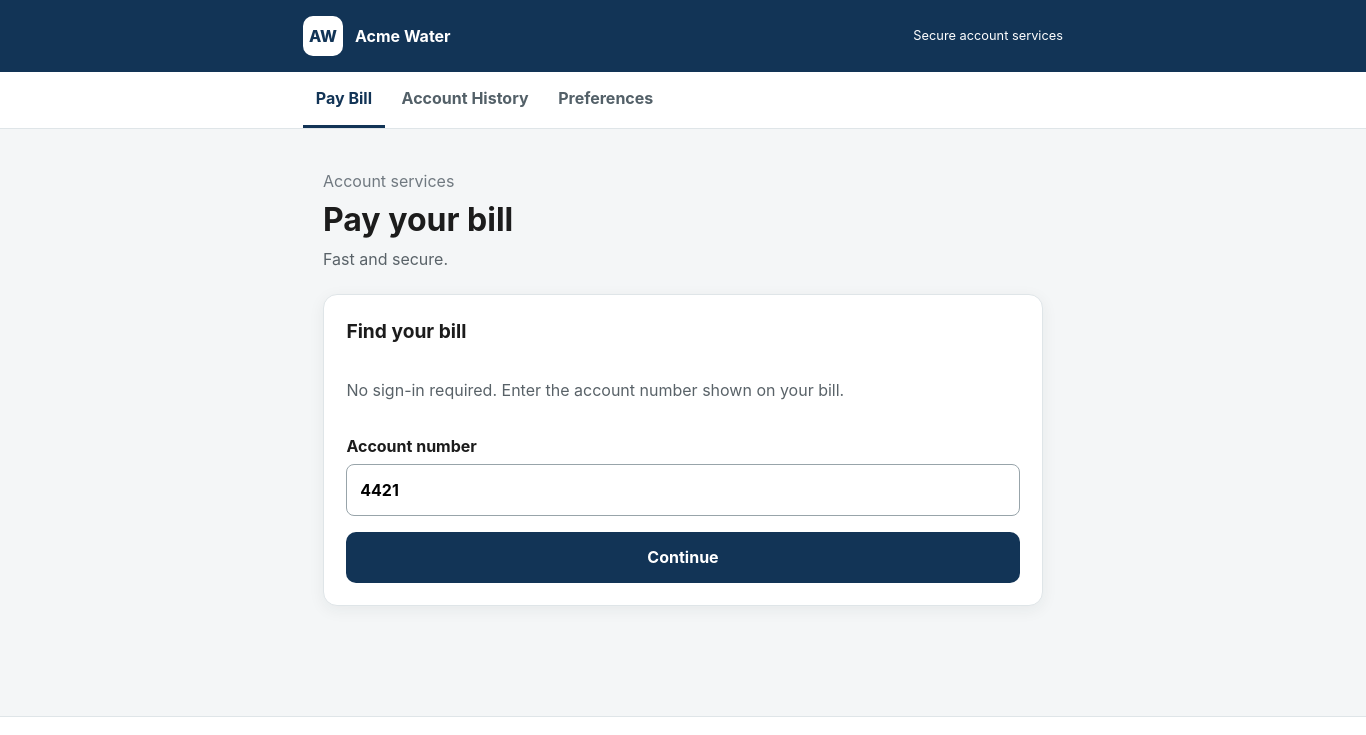
Test case: QA fixes › labels paid invoices as Paid in account history
Click the button with test id "lookup-submit" at (683, 557), box x1=346 y1=532 x2=1020 y2=583
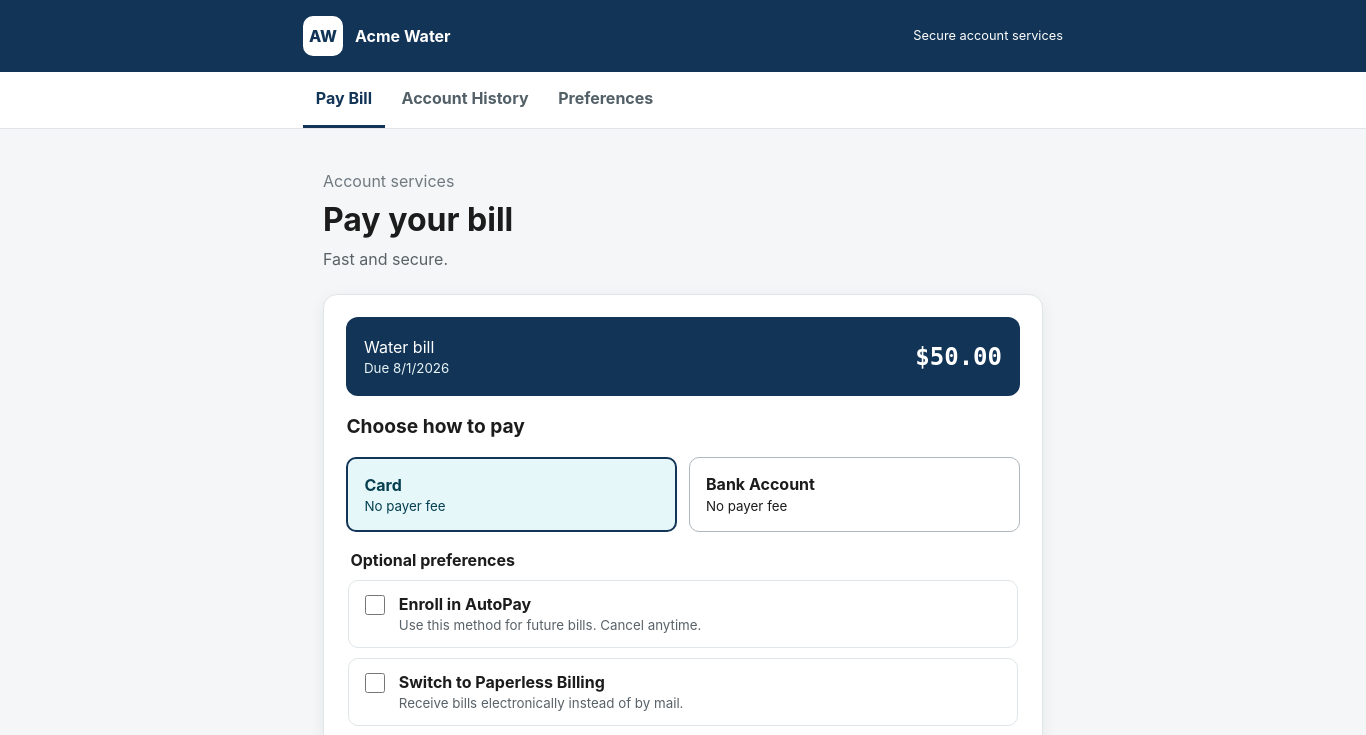
Click the button "Account History" at (465, 100), box x1=389 y1=72 x2=541 y2=128
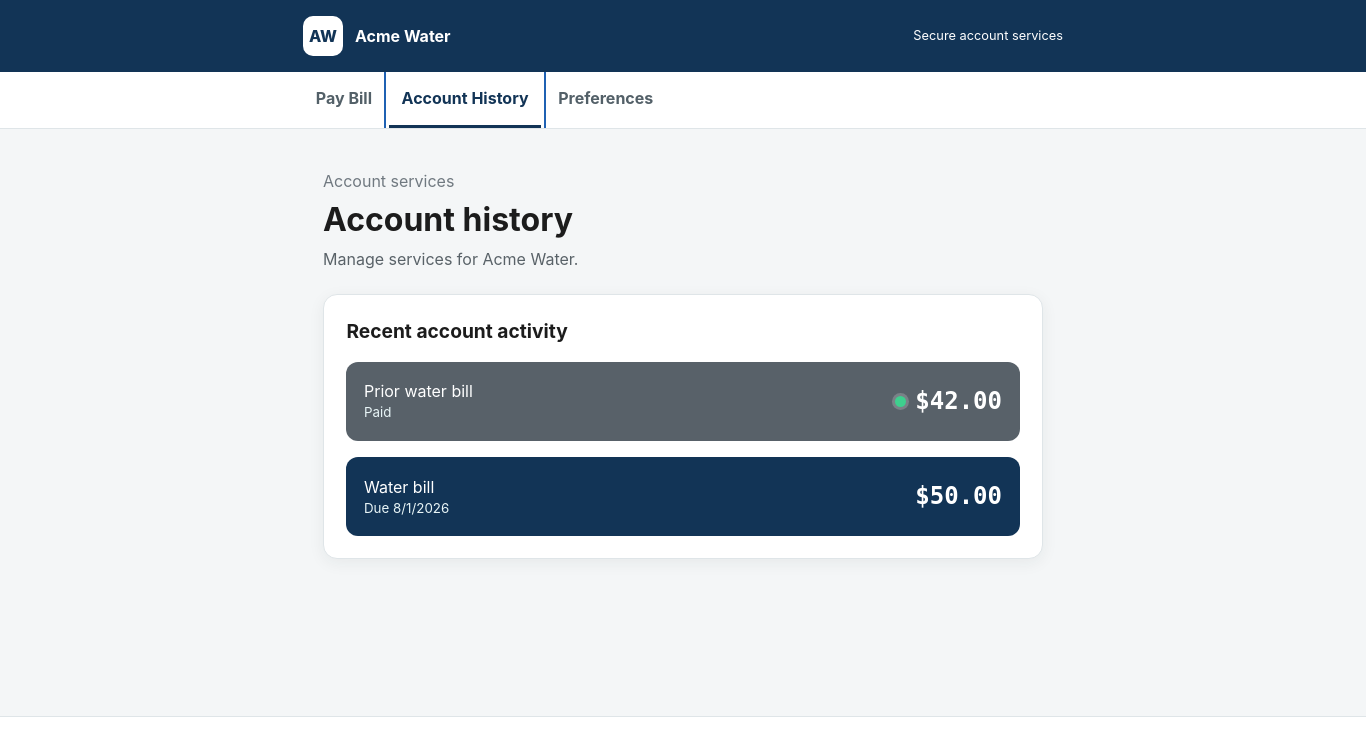
Expected: the text "Prior water bill" is shown, x1=364 y1=379 x2=473 y2=403
Expected: the text "Paid" is shown, x1=364 y1=404 x2=391 y2=420
